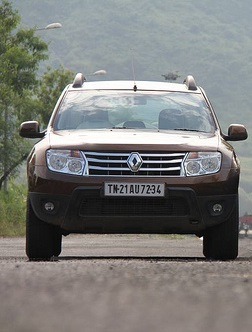TN21AU7234: (103, 181, 166, 198)
